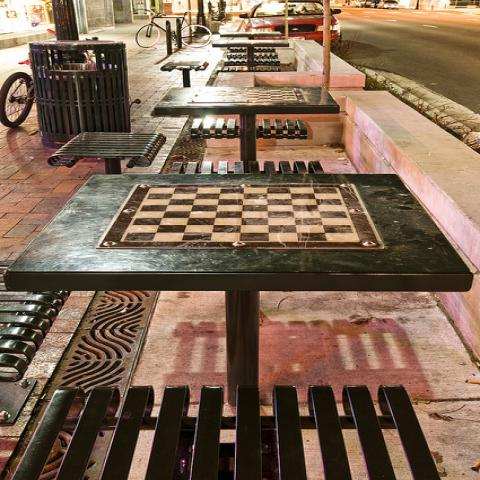car: (241, 0, 343, 48), (376, 0, 398, 10)
